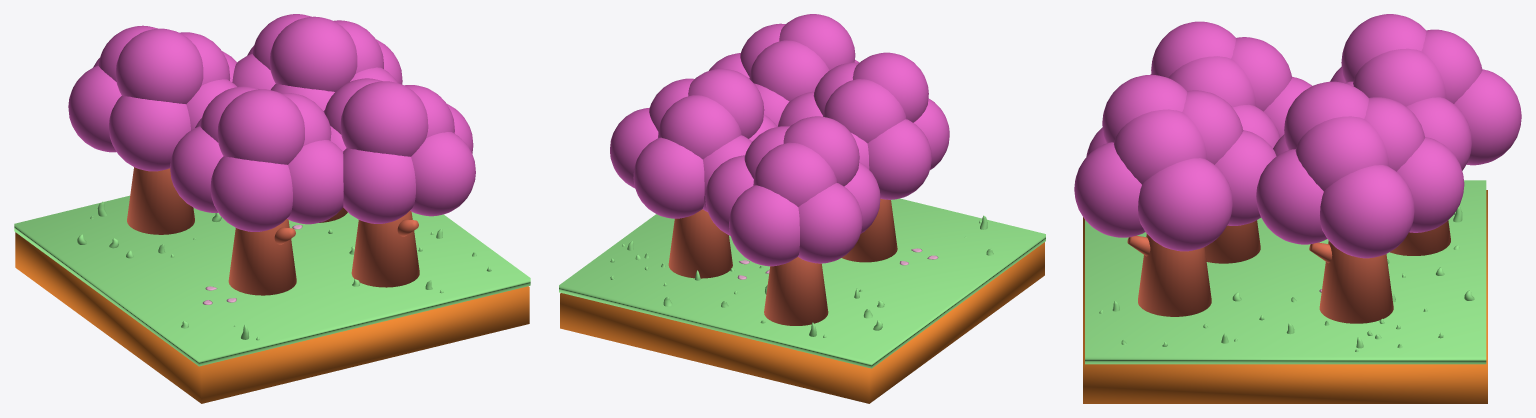
Rendered from trees.glb.
The picture shows the model from 3 angles, left to right: view 1: azimuth 30°, elevation 25°; view 2: azimuth 150°, elevation 25°; view 3: azimuth 270°, elevation 25°; orthographic projection. The views are drawn at different scales.
Parts seen in each view (by area): view 1: Cube.001, Sphère.001, Sphère.002, Sphère, Cube, Sphère.003; view 2: Cube.001, Sphère, Sphère.003, Cube, Sphère.001, Sphère.002; view 3: Cube.001, Sphère.003, Sphère.002, Sphère, Cube, Sphère.001.
Boxes of the visible parts, x1,y1,x2,y2 form: Cube.001: [14, 195, 530, 366]; Sphère.001: [170, 86, 343, 295]; Sphère.002: [323, 78, 475, 287]; Sphère: [68, 25, 236, 234]; Cube: [15, 232, 529, 403]; Sphère.003: [232, 14, 402, 222]; Cube.001: [559, 198, 1045, 368]; Sphère: [705, 116, 880, 325]; Sphère.003: [610, 68, 777, 278]; Cube: [560, 242, 1044, 403]; Sphère.001: [778, 52, 949, 262]; Sphère.002: [709, 14, 859, 126]; Cube.001: [1085, 180, 1486, 364]; Sphère.003: [1256, 81, 1464, 323]; Sphère.002: [1074, 74, 1276, 316]; Sphère: [1330, 14, 1521, 255]; Cube: [1083, 190, 1487, 403]; Sphère.001: [1151, 21, 1312, 263].
Size of the model in its own units: 1.97 by 1.38 by 2.12.
